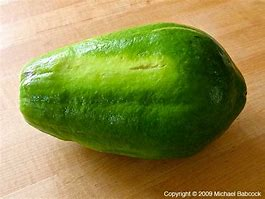papaya: (20, 23, 248, 158)
